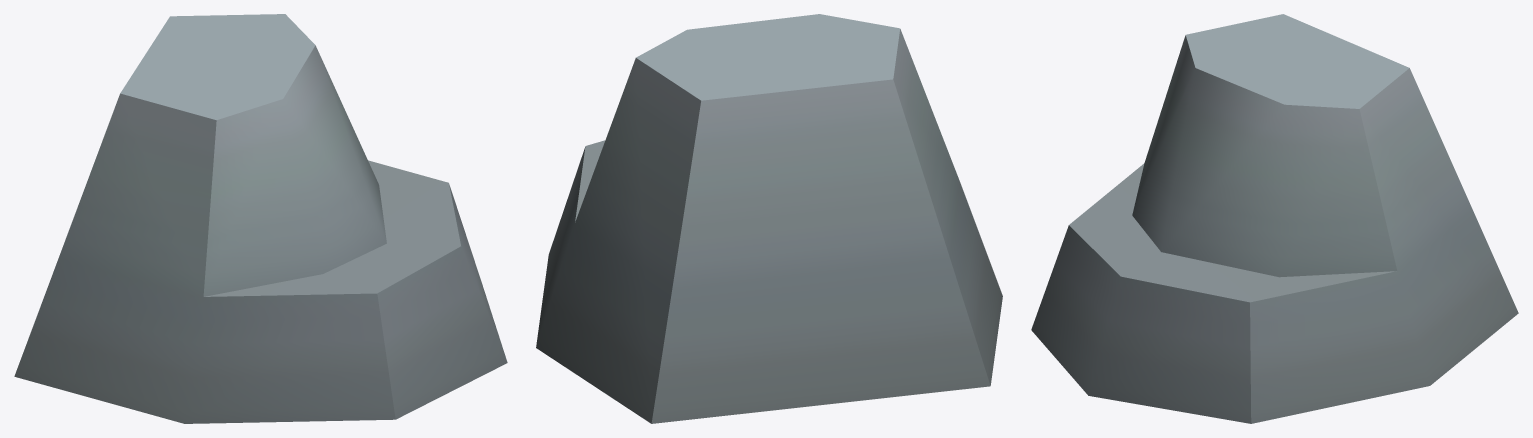
Rendered from rock_single_C.glb.
3 renders of one model, left to right at view 1: azimuth 30°, elevation 25°; view 2: azimuth 150°, elevation 25°; view 3: azimuth 270°, elevation 25°, orthographic. The views are drawn at different scales.
Visible parts, largest first — view 1: rock_single_C; view 2: rock_single_C; view 3: rock_single_C.
Boxes of the visible parts, x1=… form: rock_single_C: x1=14, y1=14, x2=507, y2=423; rock_single_C: x1=536, y1=14, x2=1002, y2=423; rock_single_C: x1=1031, y1=14, x2=1518, y2=423.
Bounding box in the file's own units: 0.3439 × 0.1948 × 0.3442.
1 material, 1 textured.
